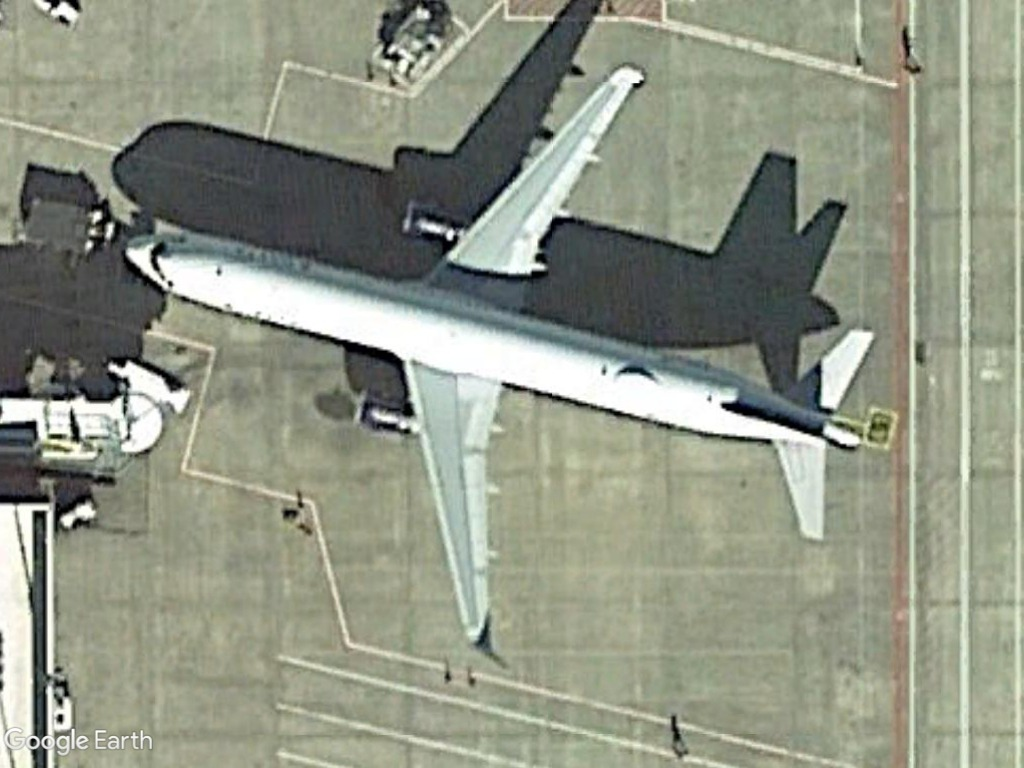airliner: (114, 58, 881, 661)
